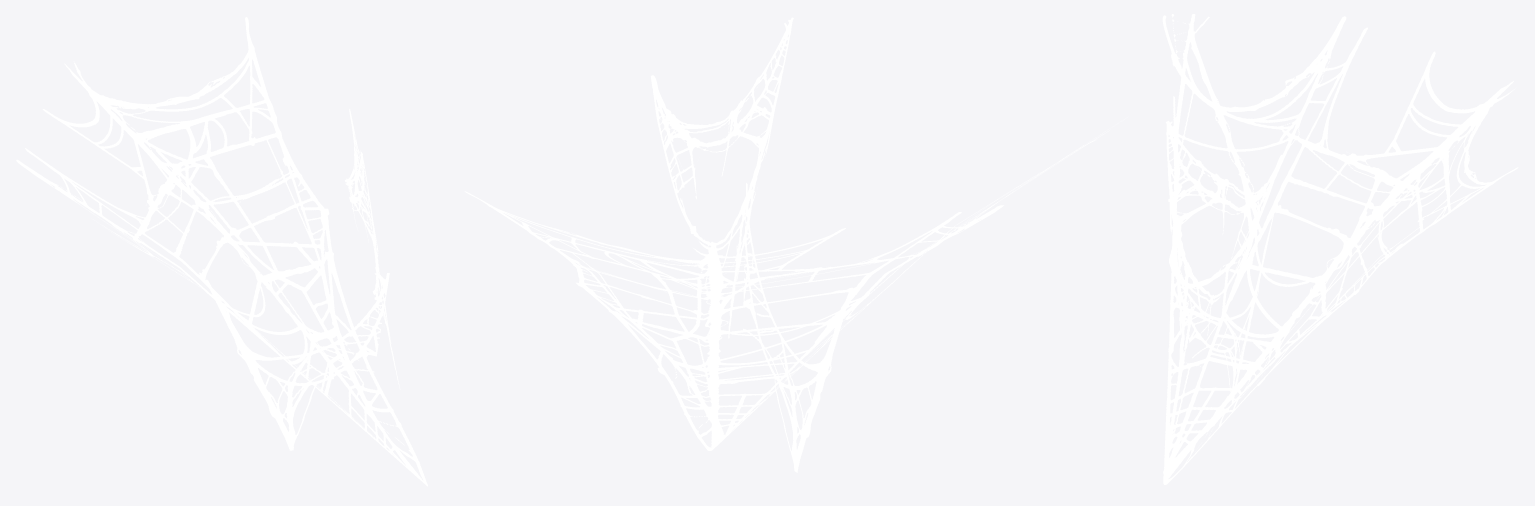
3 views of the same model, side by side, from view 1: azimuth 30°, elevation 25°; view 2: azimuth 150°, elevation 25°; view 3: azimuth 270°, elevation 25° (orthographic). The views are drawn at different scales.
Parts seen in each view (by area): view 1: SM_Cob_Web_02_LOD0; view 2: SM_Cob_Web_02_LOD0; view 3: SM_Cob_Web_02_LOD0.
Boxes of the visible parts, x1,y1,x2,y2 form: SM_Cob_Web_02_LOD0: [16, 17, 427, 486]; SM_Cob_Web_02_LOD0: [464, 17, 1127, 472]; SM_Cob_Web_02_LOD0: [1162, 14, 1518, 484].
Size of the model in its own units: 2 by 2.08 by 2.
1 material, 1 textured.
